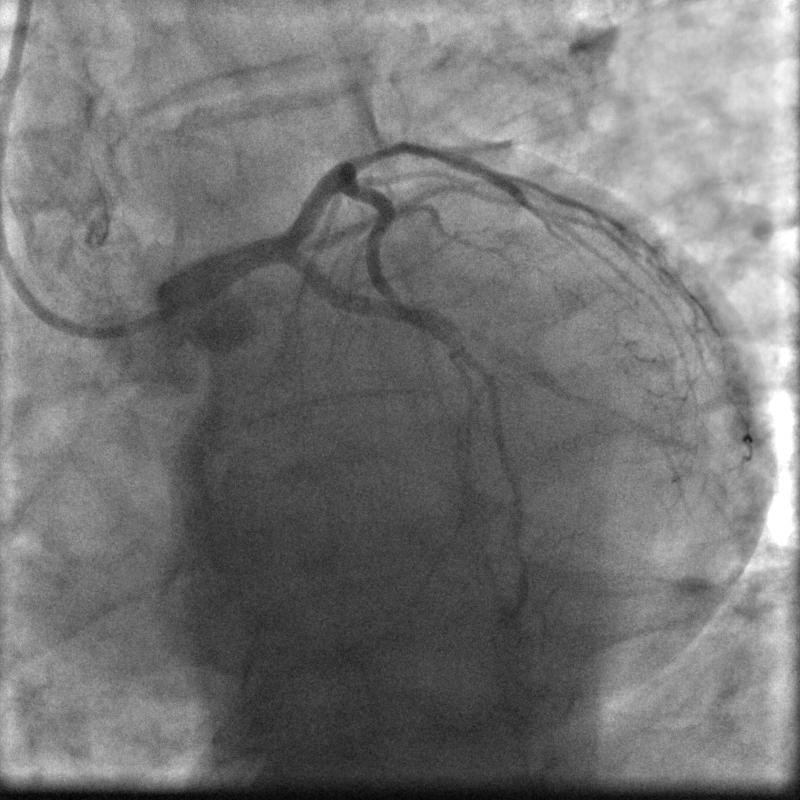Stenosis: (343, 137, 406, 171)
